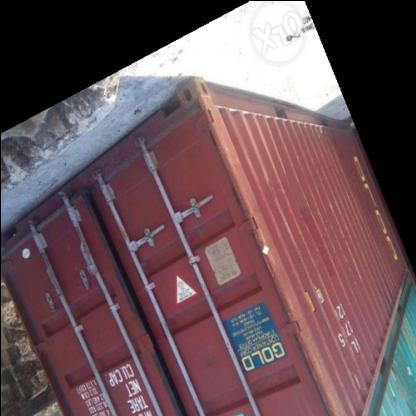Damage: (237, 187, 294, 298), (285, 305, 340, 412), (64, 132, 146, 198)
